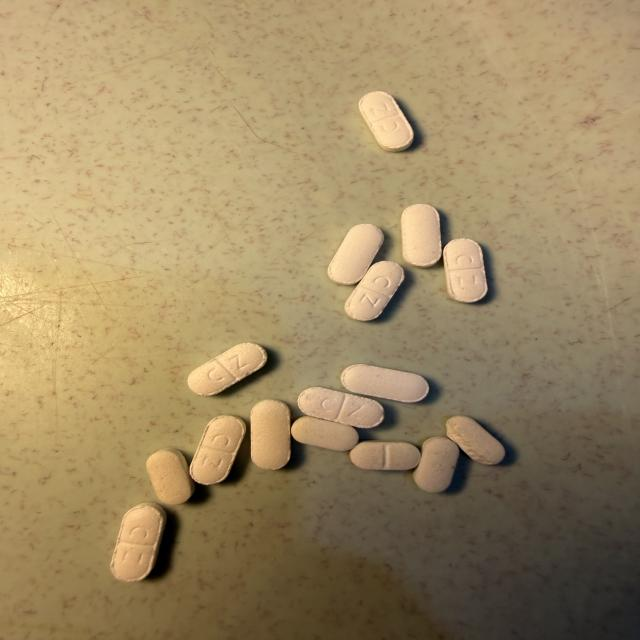pill: (111, 503, 166, 581), (188, 343, 267, 395), (190, 416, 245, 484), (298, 387, 384, 428), (345, 261, 404, 320), (341, 364, 428, 402), (328, 224, 383, 284), (359, 91, 413, 151), (443, 239, 487, 303), (447, 416, 505, 464), (251, 400, 290, 469), (147, 448, 194, 505), (401, 204, 441, 267), (414, 437, 459, 492), (292, 416, 358, 450), (350, 441, 420, 470)
